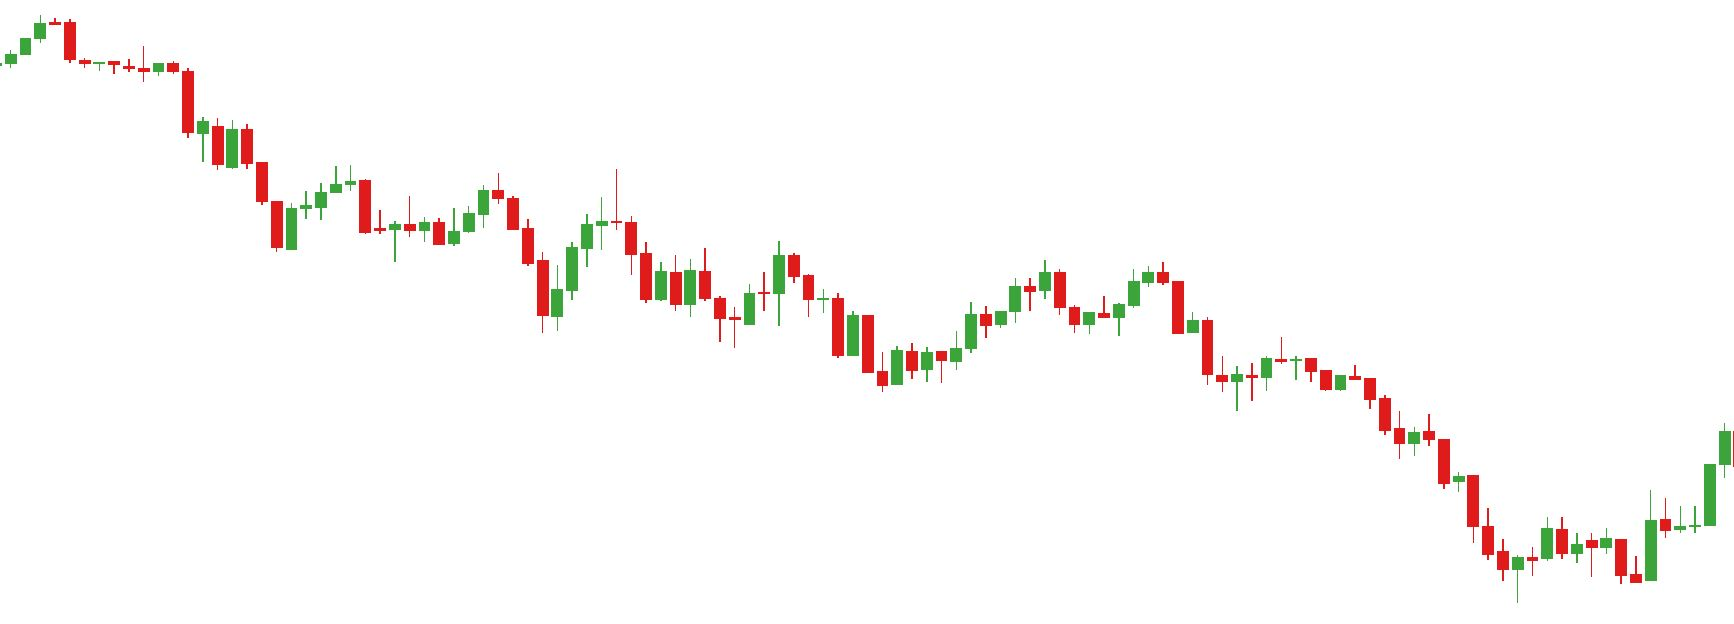sell: (404, 171, 503, 230)
